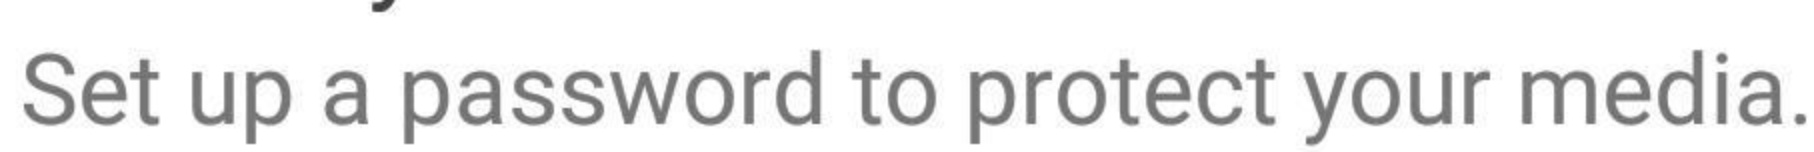TextView: (1, 1, 1813, 151)
